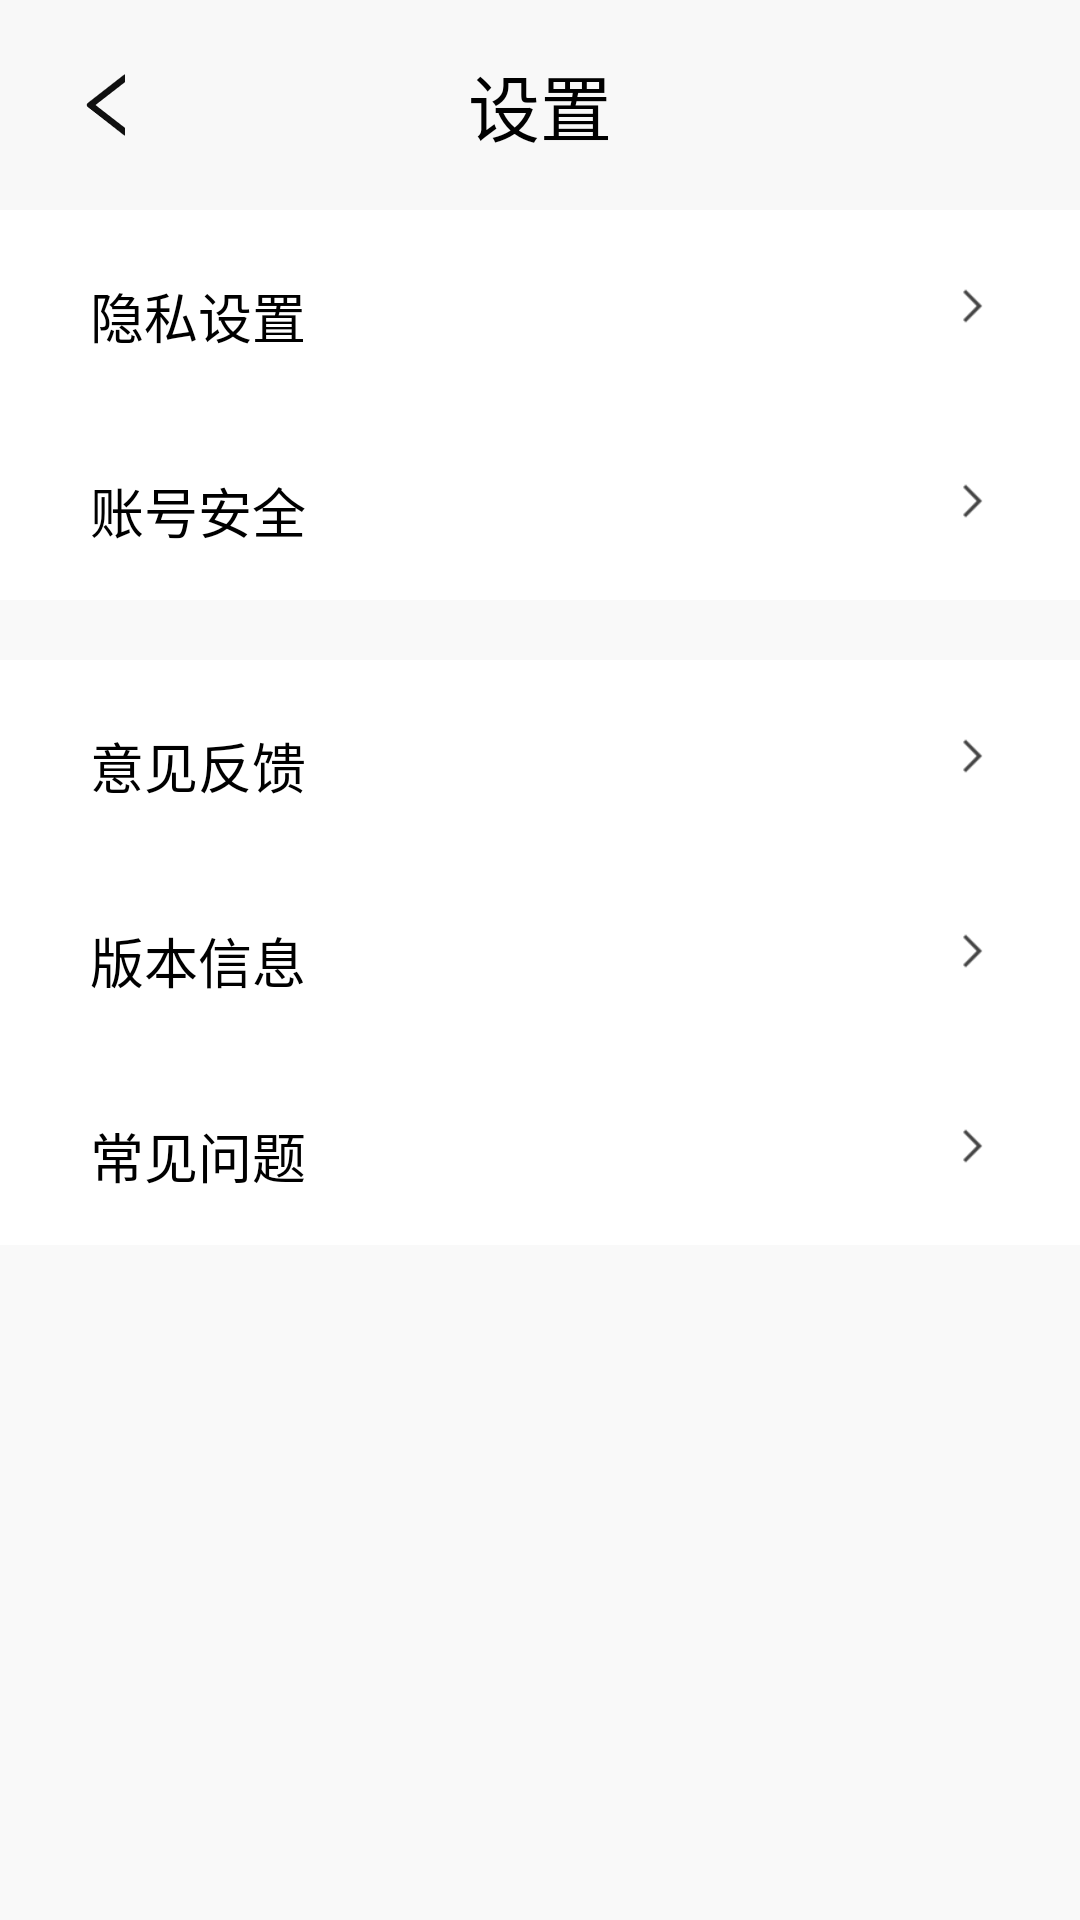

Where to tap for icons on this 1080w x 1920h app screen, as point (x, y):
myinfo mod click: point (972, 306), point (972, 501), point (972, 756), point (972, 951), point (972, 1146)
